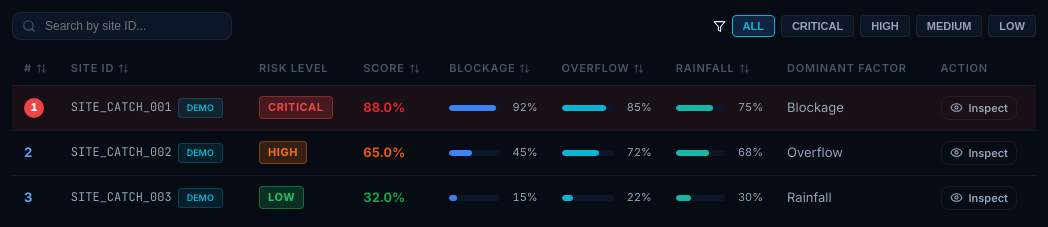
Test: Risk Table Component › filters rows by risk level chip
What coordinates should you click on to do the following:
click the button "LOW"
I would click on:
 (1012, 26)
Its box is [988,15,1036,37].
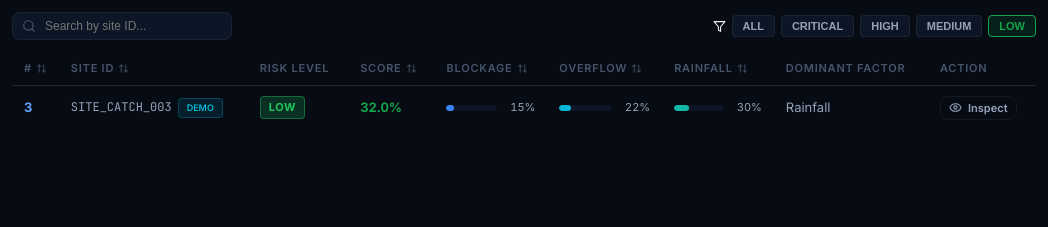
Check: the text "SITE_CATCH_003" is shown, box [71,99,172,115]
Check: the text "SITE_CATCH_001" is gone
